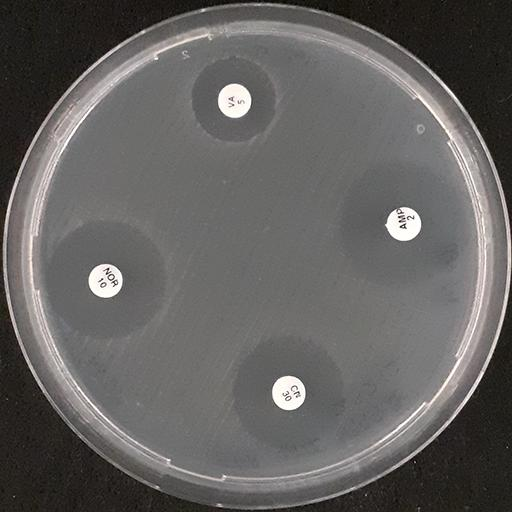disc: (384, 207, 421, 241), (271, 376, 306, 410), (217, 83, 251, 117), (89, 263, 123, 297)
